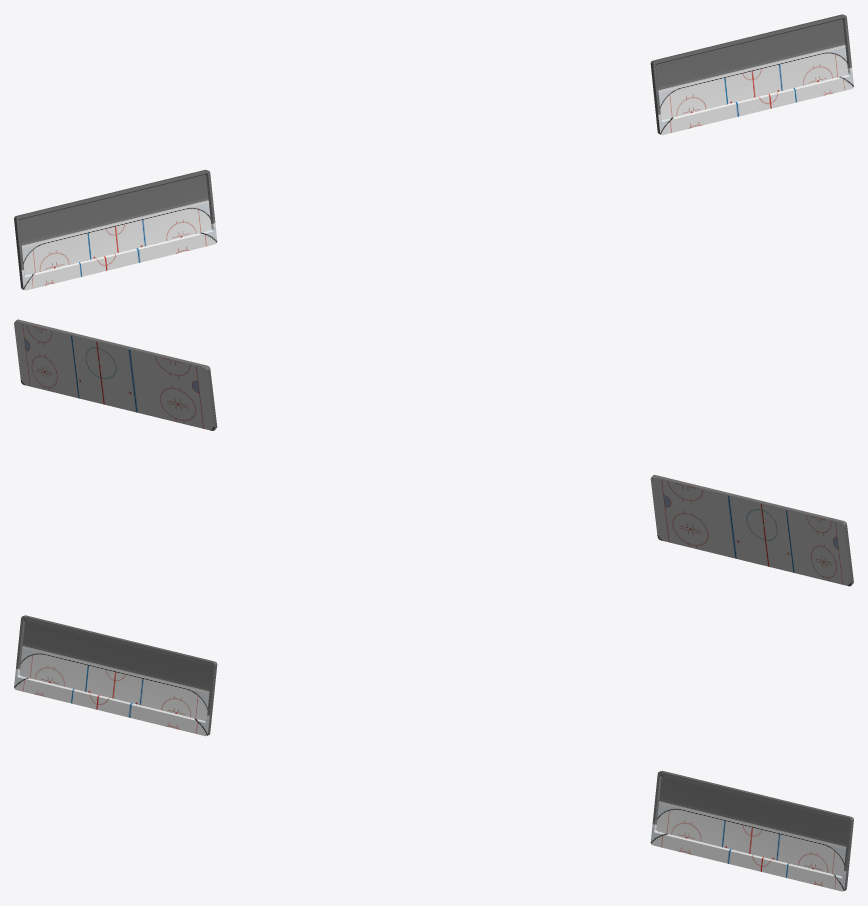
Rendered from DMscreenAdEntV0.1.fbx.
3 views of the same model, one above another, from view 1: azimuth 30°, elevation 25°; view 2: azimuth 150°, elevation 25°; view 3: azimuth 330°, elevation 25° (orthographic).
Visible parts, largest first — view 1: DMscreenEntrance_screen, DMscreenEntrance_body; view 2: DMscreenEntrance_body; view 3: DMscreenEntrance_screen, DMscreenEntrance_body.
Part boxes in pixels (bbox=[...]): DMscreenEntrance_screen: bbox=[19, 19, 848, 275]; DMscreenEntrance_body: bbox=[14, 14, 853, 290]; DMscreenEntrance_body: bbox=[14, 319, 853, 586]; DMscreenEntrance_screen: bbox=[19, 620, 848, 876]; DMscreenEntrance_body: bbox=[14, 615, 853, 891].
Size of the model in its own units: 3750 by 298 by 78.23.
